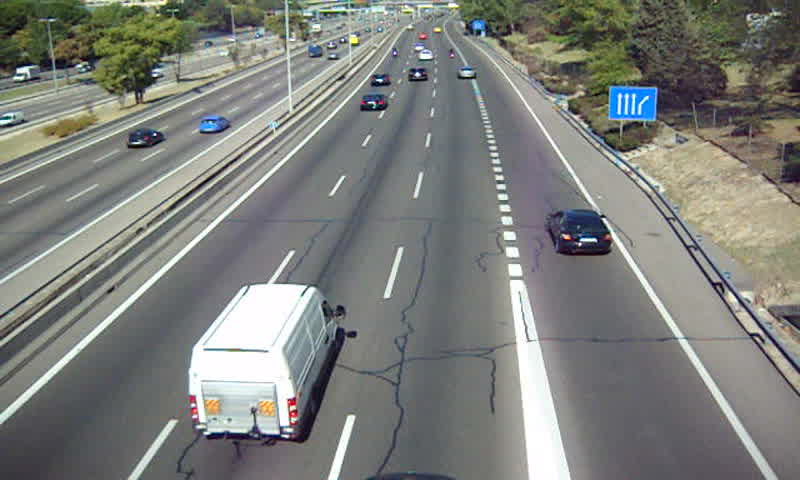car: (548, 211, 614, 253), (360, 92, 386, 110), (406, 67, 427, 84), (368, 72, 391, 87), (456, 66, 477, 80), (417, 49, 436, 60)
van: (190, 283, 346, 439)
